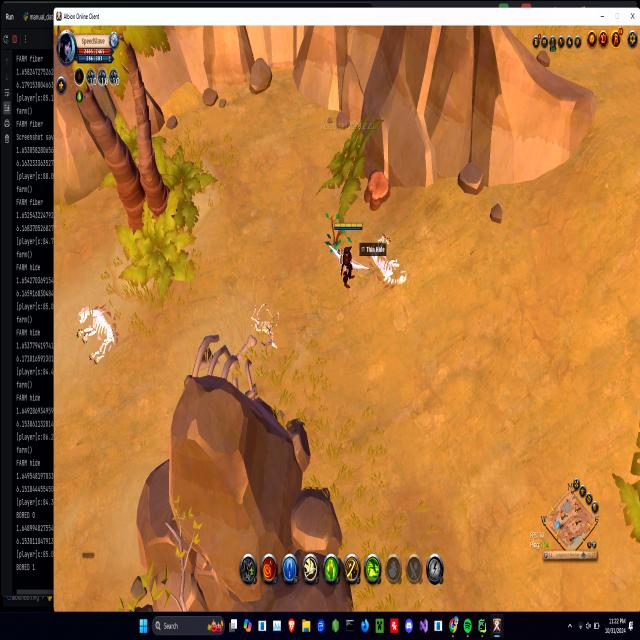red: (333, 219, 362, 292)
